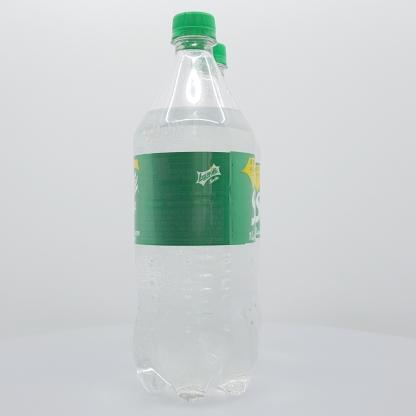--------1L: (133, 12, 257, 402)
